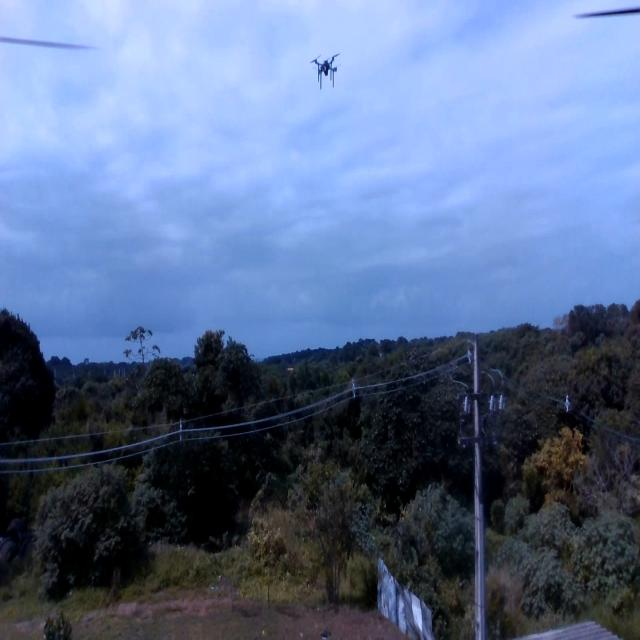-uav-: (306, 45, 346, 96)
